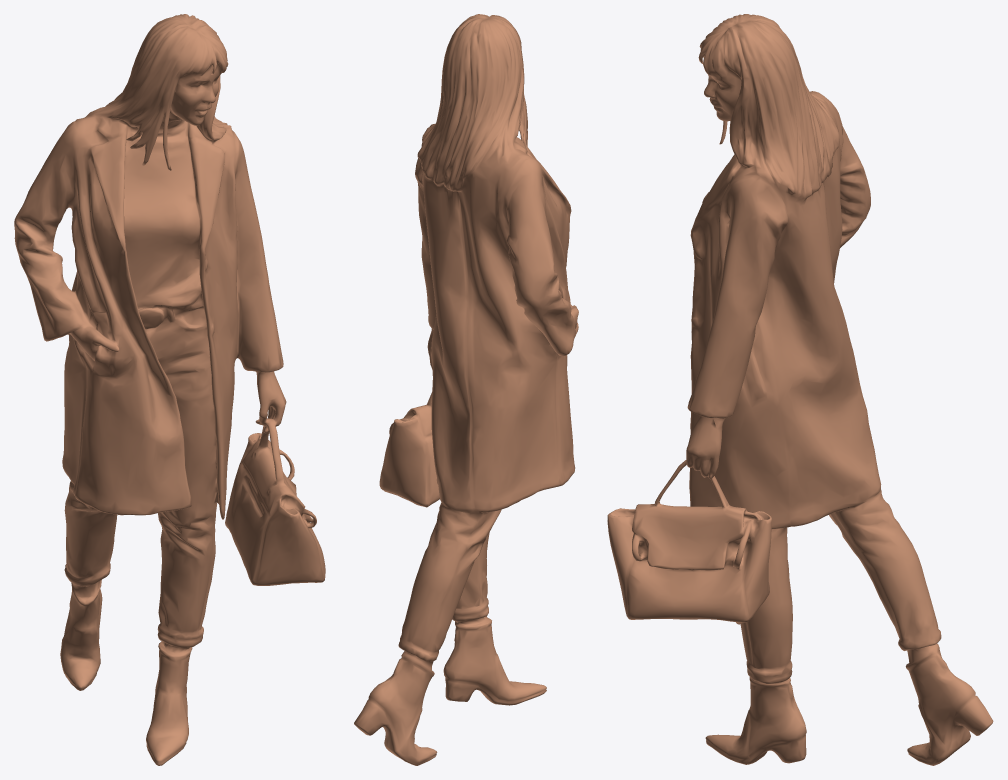
File: woman.gltf
3 renders of one model, left to right at view 1: azimuth 30°, elevation 25°; view 2: azimuth 150°, elevation 25°; view 3: azimuth 270°, elevation 25°, orthographic. The views are drawn at different scales.
Parts seen in each view (by area): view 1: Marina_1276_COR; view 2: Marina_1276_COR; view 3: Marina_1276_COR.
Part boxes in pixels (box(x1,y1,x2,y2)): Marina_1276_COR: box(14, 14, 325, 765); Marina_1276_COR: box(354, 14, 578, 765); Marina_1276_COR: box(607, 14, 993, 765).
Bounding box in the file's own units: 0.5973 × 1.75 × 0.8195.
